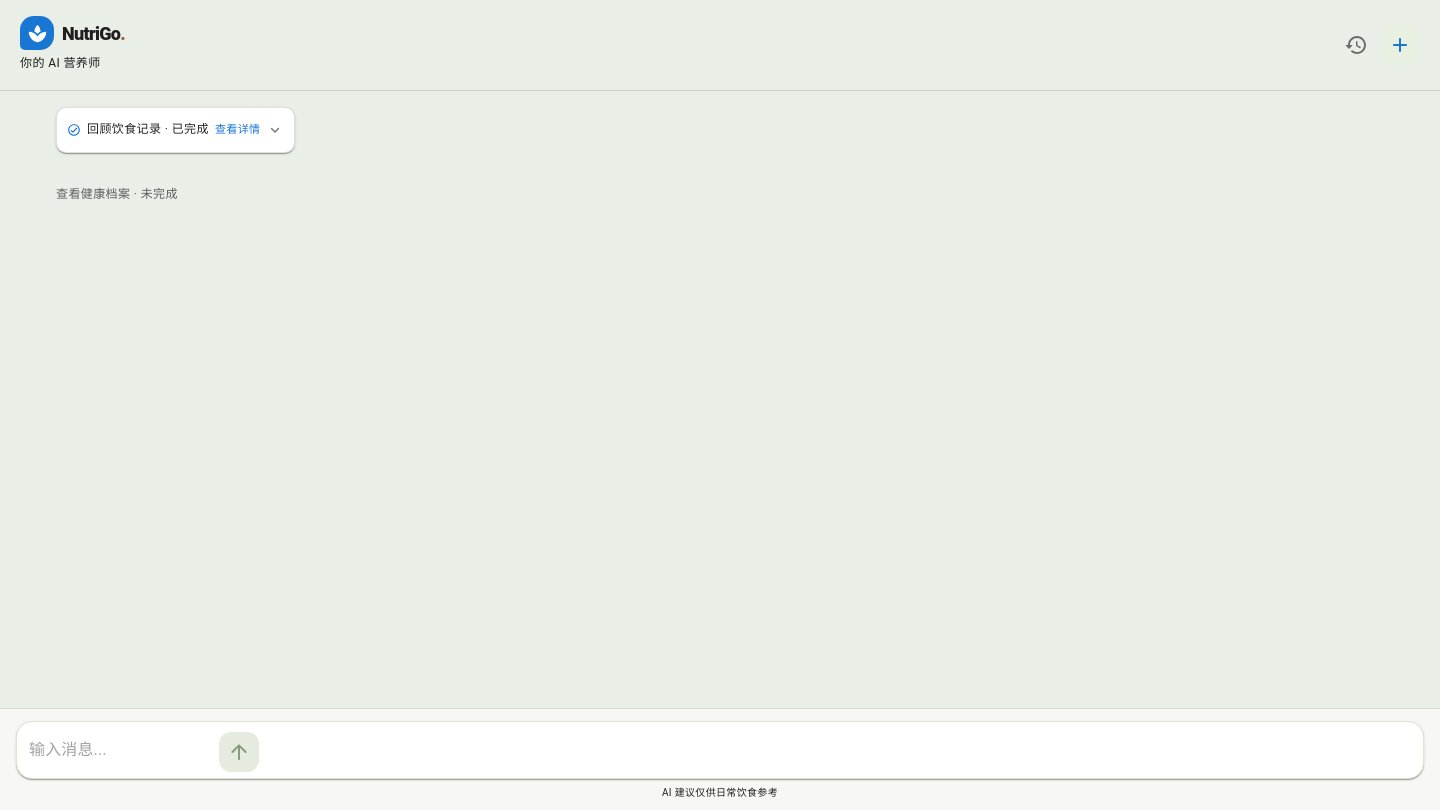
Test: Chat 页面 › 历史查询的空结果能展开，未完成的查询不持续显示加载状态
The width and height of the screenshot is (1440, 810).
Click the button "回顾饮食记录 · 已完成 查看详情".
click(176, 130)  # box [57,108,294,152]
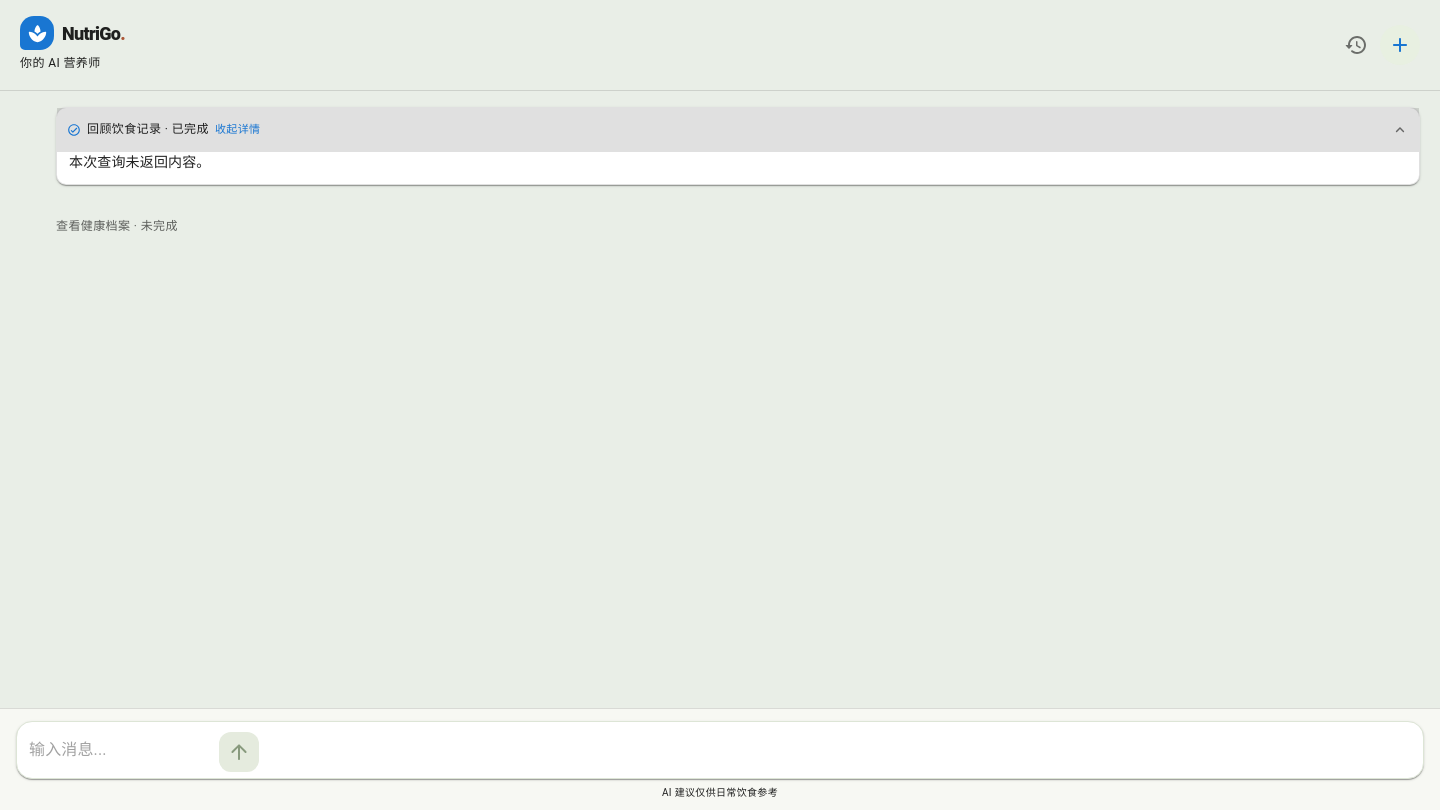
Expected: the text "查看健康档案 · 未完成" is shown, [56,217,178,237]
Expected: the text "本次查询未返回内容。" is shown, [69,154,210,170]
